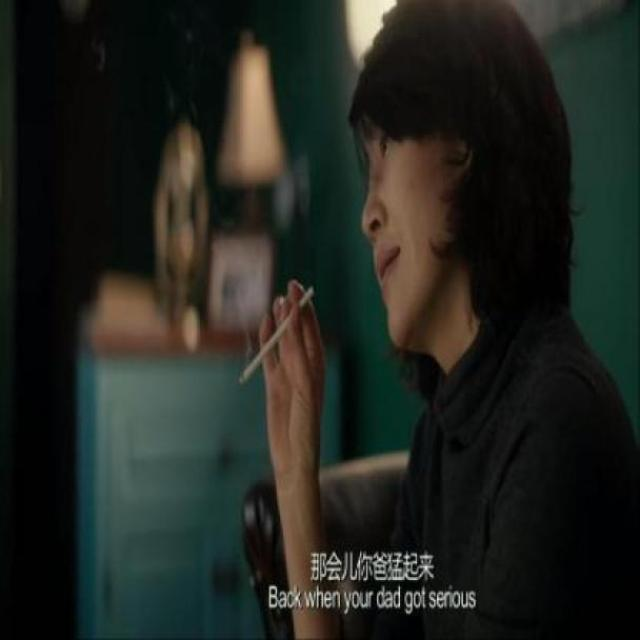rokok: (236, 284, 314, 386)
